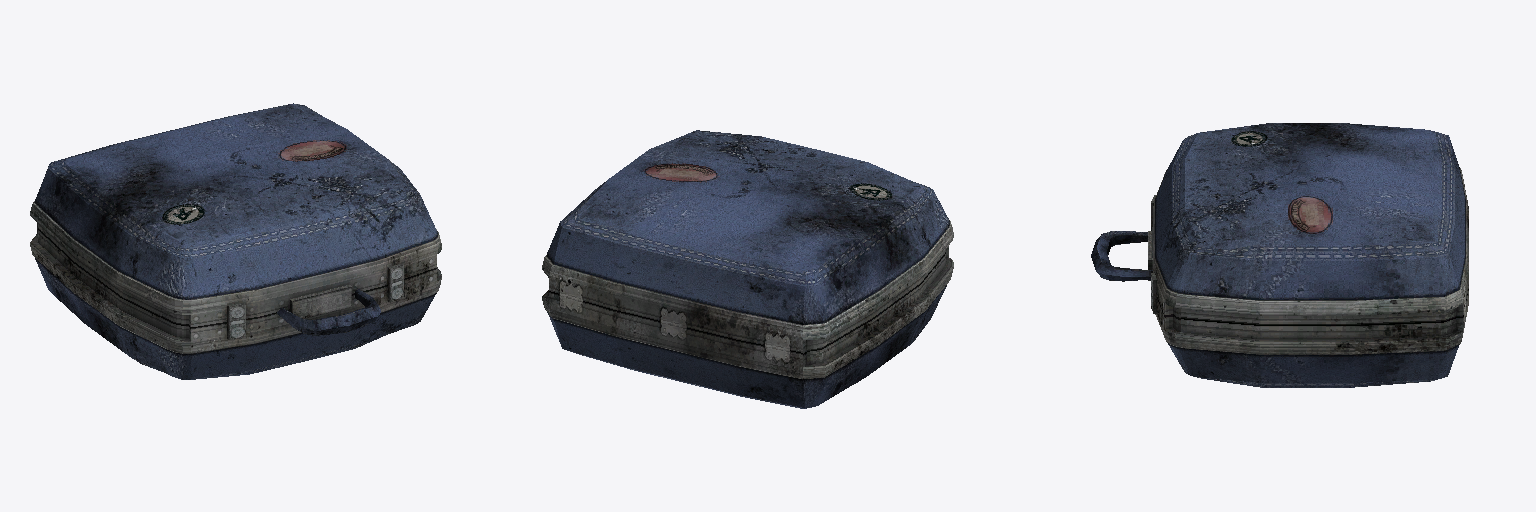
3 views of the same model, side by side, from view 1: azimuth 30°, elevation 25°; view 2: azimuth 150°, elevation 25°; view 3: azimuth 270°, elevation 25° (orthographic).
Visible parts, largest first — view 1: debris_luggageE; view 2: debris_luggageE; view 3: debris_luggageE.
Boxes of the visible parts, x1=… form: debris_luggageE: x1=30, y1=103, x2=441, y2=379; debris_luggageE: x1=542, y1=130, x2=953, y2=408; debris_luggageE: x1=1091, y1=123, x2=1468, y2=387.
Size of the model in its own units: 92.76 by 46.42 by 102.
Materials: 1 (1 with a texture image).